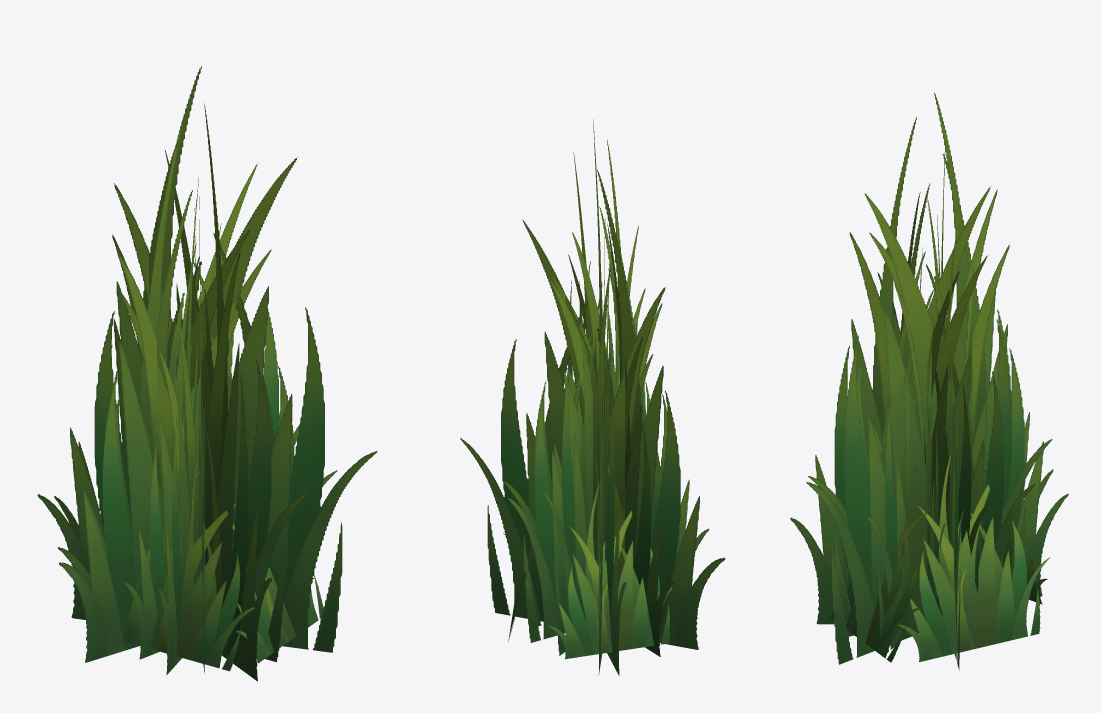
Rendered from Small_Grass_M.fbx.
The picture shows the model from 3 angles, left to right: view 1: azimuth 30°, elevation 25°; view 2: azimuth 150°, elevation 25°; view 3: azimuth 270°, elevation 25°; orthographic projection. The views are drawn at different scales.
Visible parts, largest first — view 1: Small_Grass_M; view 2: Small_Grass_M; view 3: Small_Grass_M.
Boxes of the visible parts, box(x1,y1,x2,y2) form: Small_Grass_M: box(37, 66, 377, 681); Small_Grass_M: box(460, 119, 725, 675); Small_Grass_M: box(790, 92, 1068, 670).
Bounding box in the file's own units: 0.2039 × 0.3605 × 0.1829.
